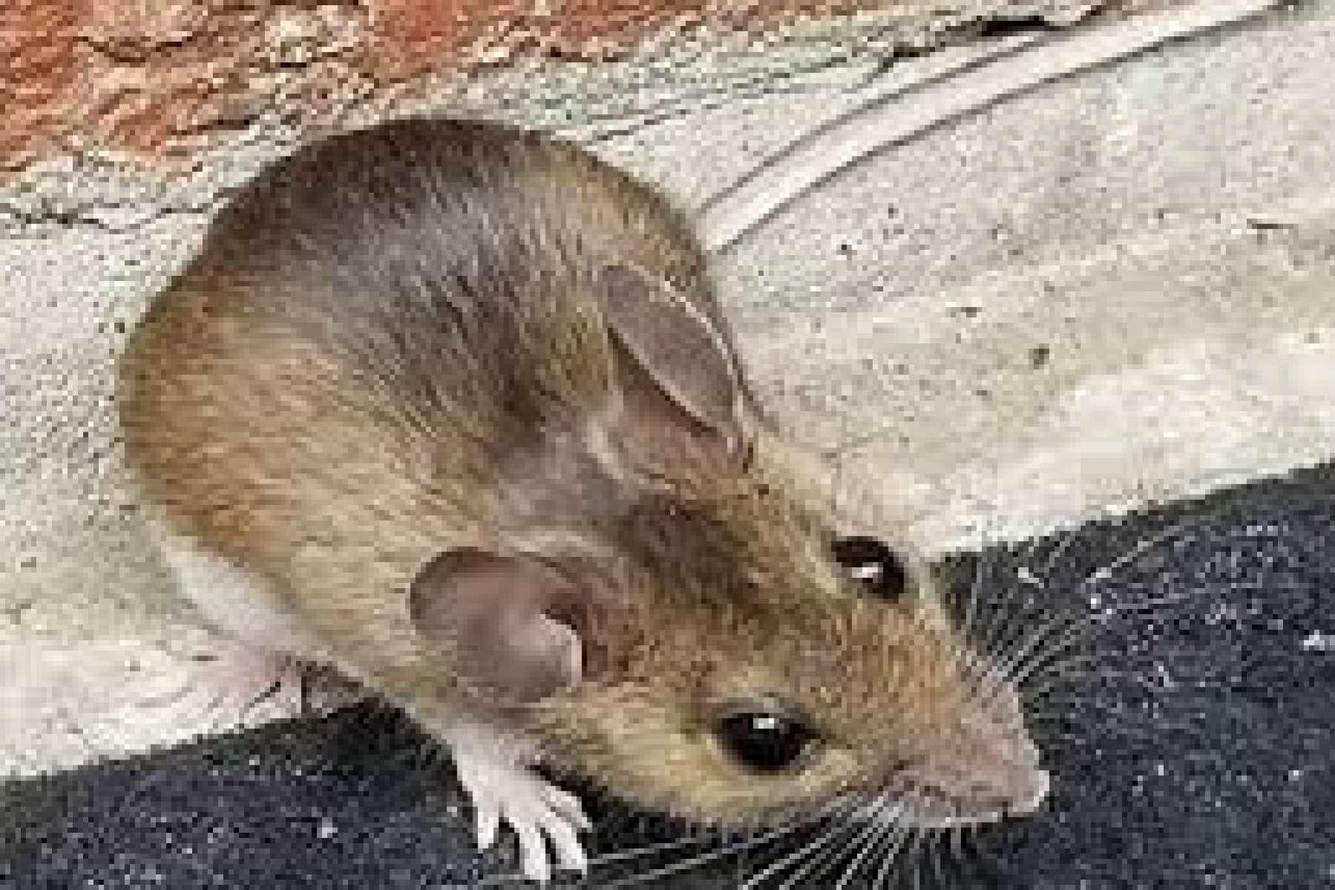rat: (119, 4, 1271, 883)
